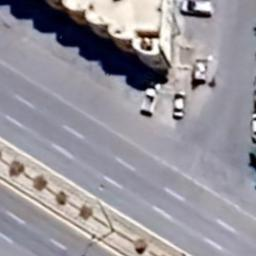SUV: (180, 0, 214, 18)
pickup: (140, 80, 160, 117)
sedan: (172, 90, 186, 120), (250, 112, 256, 145)
